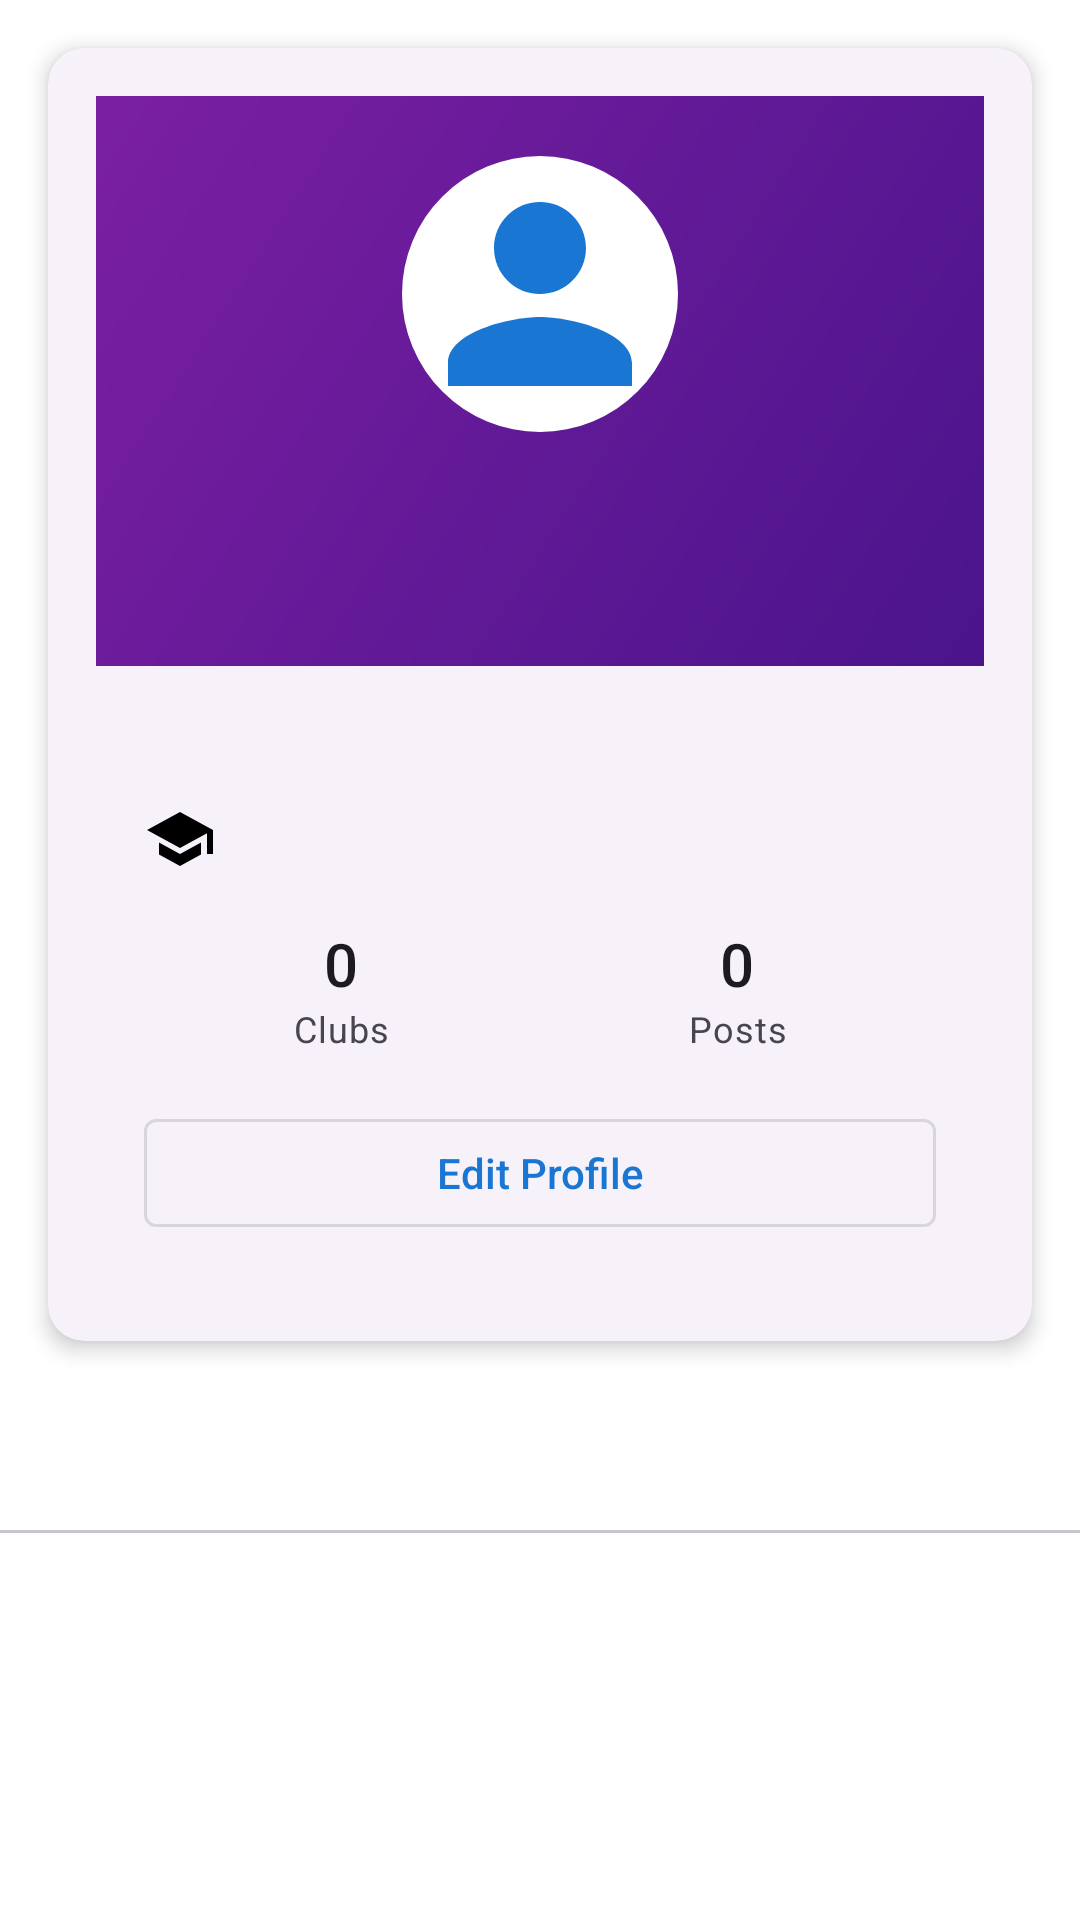

Screen size 1080 × 1920. Icon name, then its box in pixels as (x1, y1, x2, y2):
profile: (402, 156, 678, 432)
